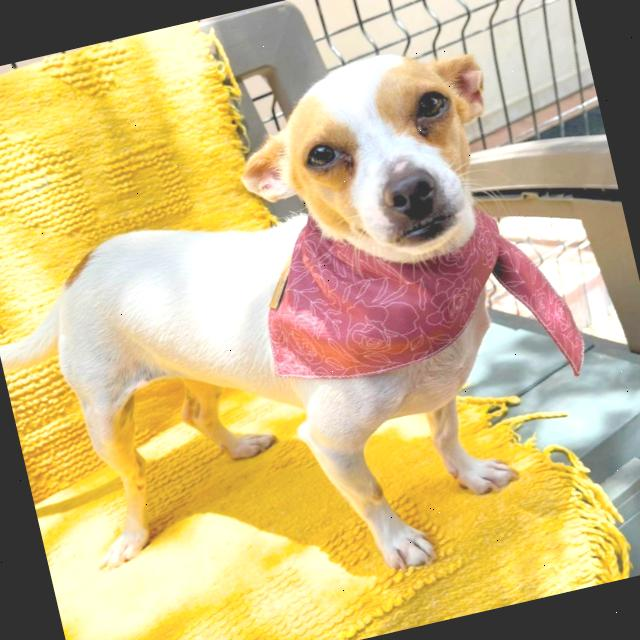chihuahua_dog: (215, 23, 534, 296)
